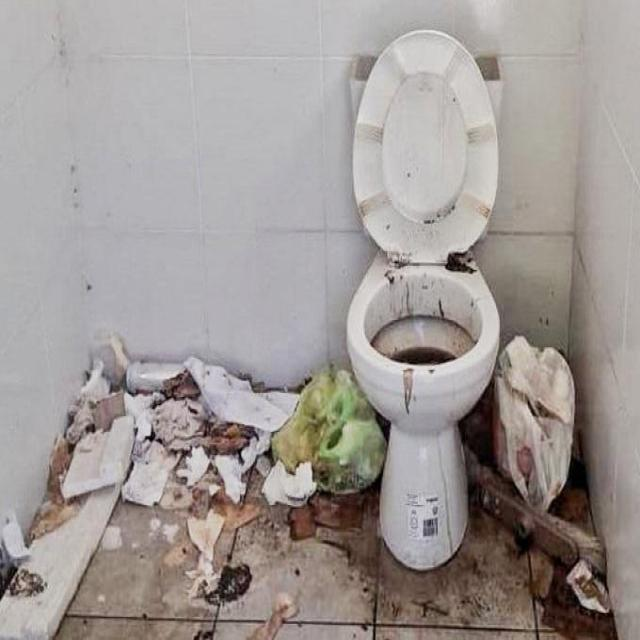dirty_area: (386, 163, 502, 481)
garbage: (44, 372, 385, 637)
overflow_bin: (496, 332, 582, 514)
